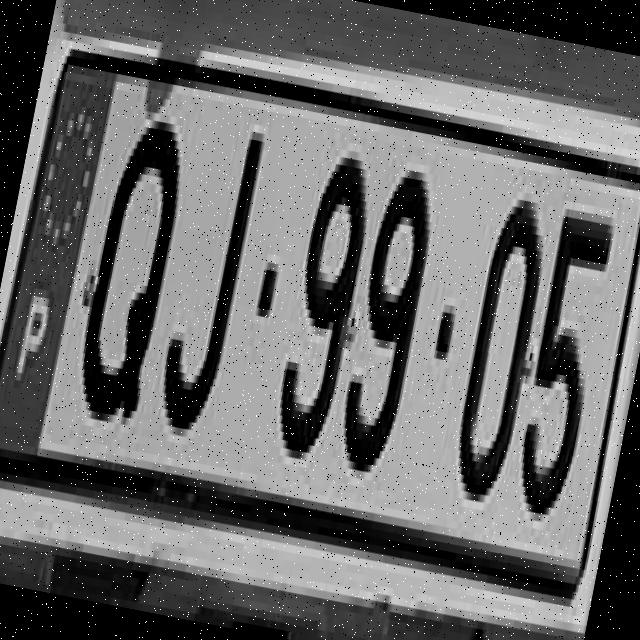EU: (0, 34, 640, 613)
Portugal: (0, 43, 121, 463)
